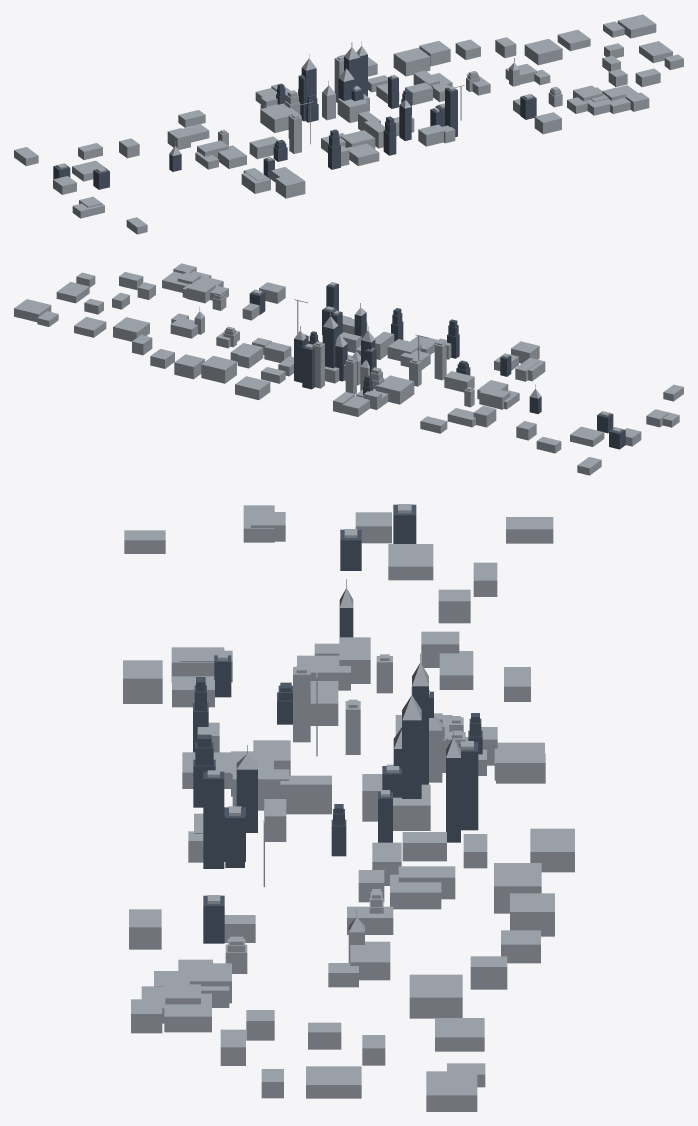
File: skyline.glb
3 renders of one model, top to bottom at view 1: azimuth 30°, elevation 25°; view 2: azimuth 150°, elevation 25°; view 3: azimuth 270°, elevation 25°, orthographic. The views are drawn at different scales.
Visible parts, largest first — view 1: skyline; view 2: skyline; view 3: skyline.
Part boxes in pixels (x1=…): skyline: x1=14, y1=14, x2=683, y2=234; skyline: x1=14, y1=263, x2=683, y2=475; skyline: x1=123, y1=504, x2=574, y2=1111.
Bounding box in the file's own units: 2673 × 279 × 862.
